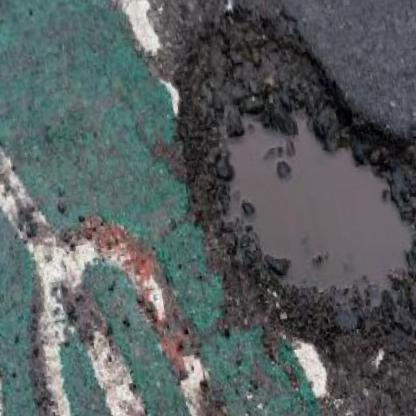pothole: (183, 0, 416, 358)
